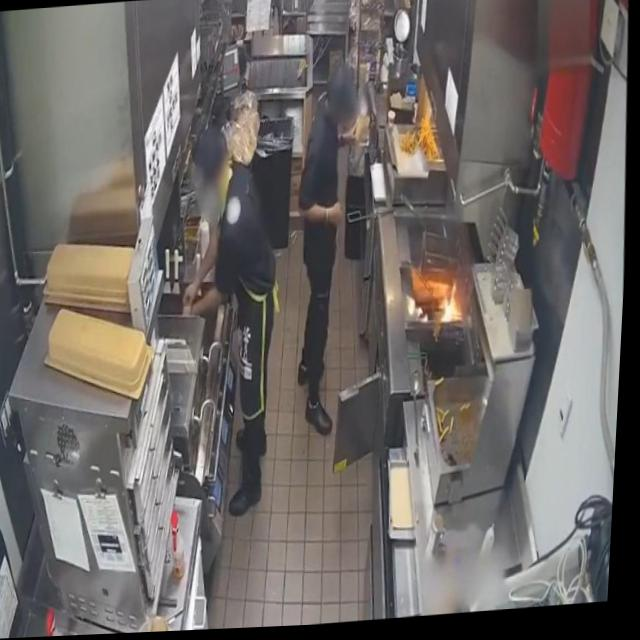fire: (441, 286, 466, 326)
